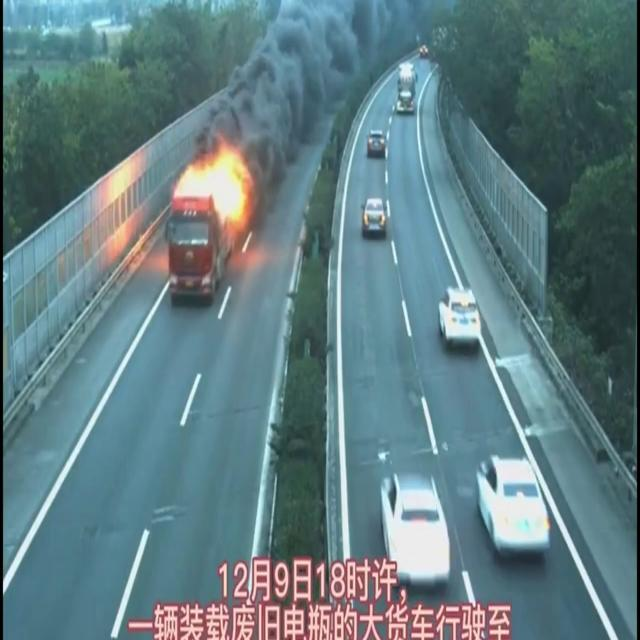multiple_accident: (135, 48, 282, 332)
normal: (332, 95, 597, 623)
